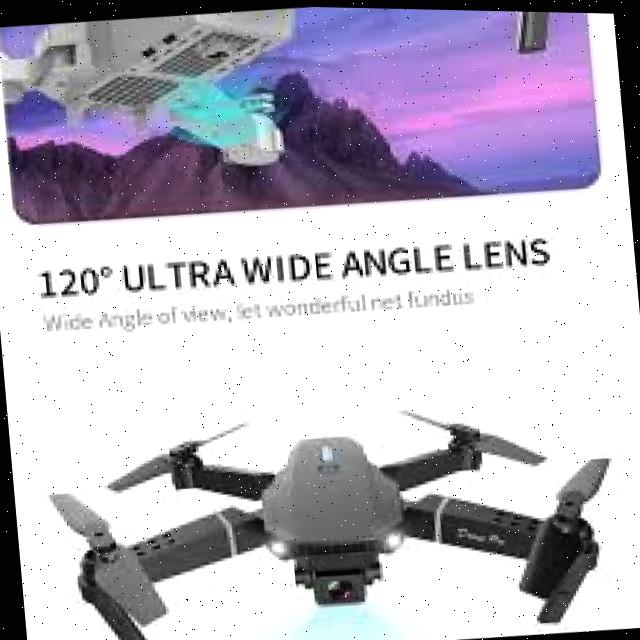drone: (30, 358, 640, 640)
